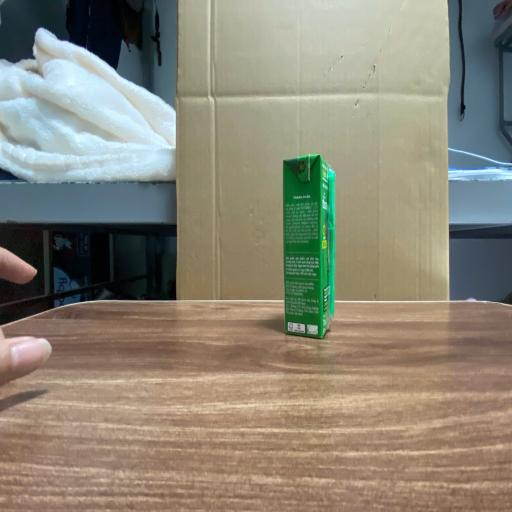milo: (283, 155, 335, 338)
